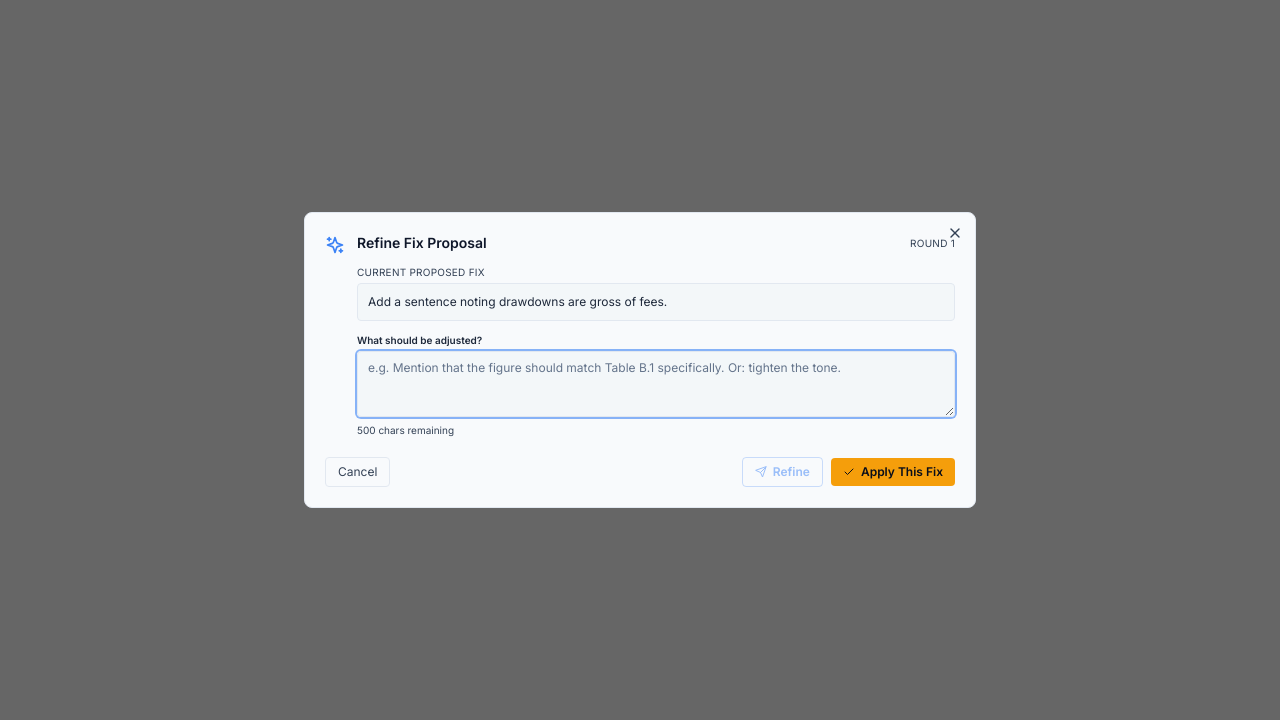
Test case: RefinementModal › counter starts at 500 and updates as the user types
Check: the text with test id "refinement-modal-counter" reads "500 chars remaining", box [357,423,454,437]
Type "hello" into the text box with test id "refinement-modal-note" at (656, 384), box [357,351,955,417]
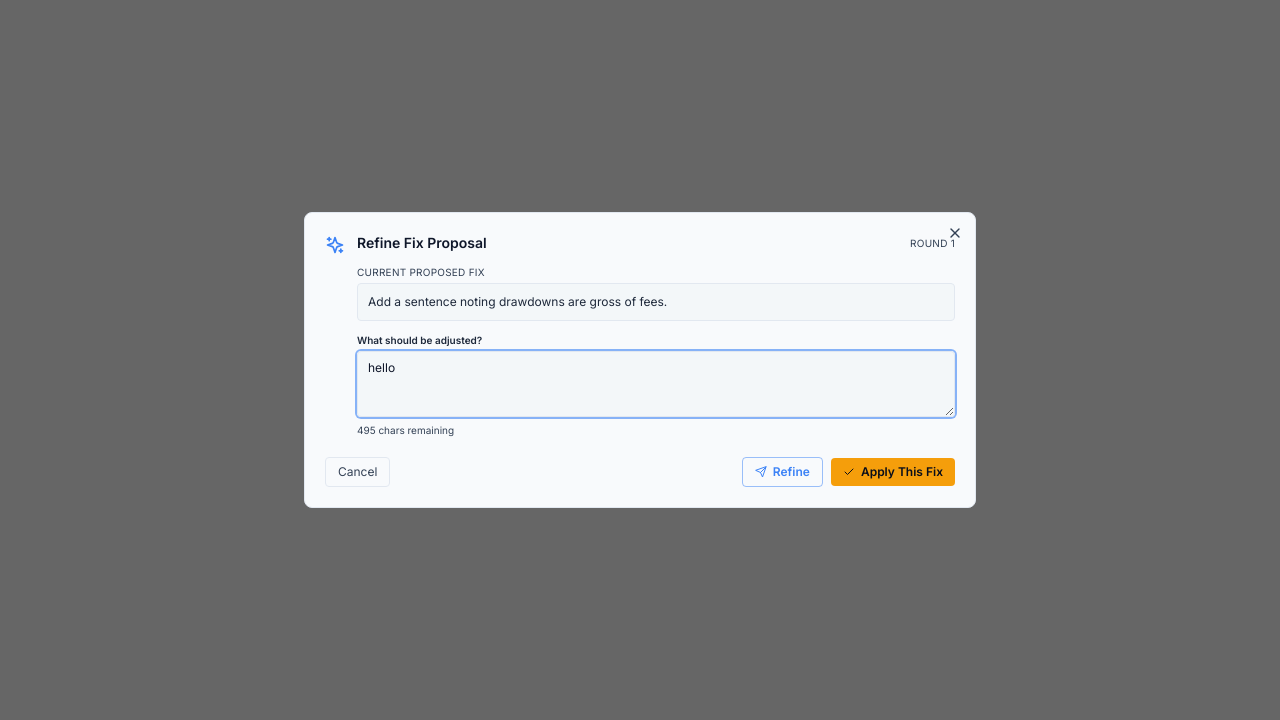
Check: the text with test id "refinement-modal-counter" reads "495 chars remaining", box [357,423,454,437]
